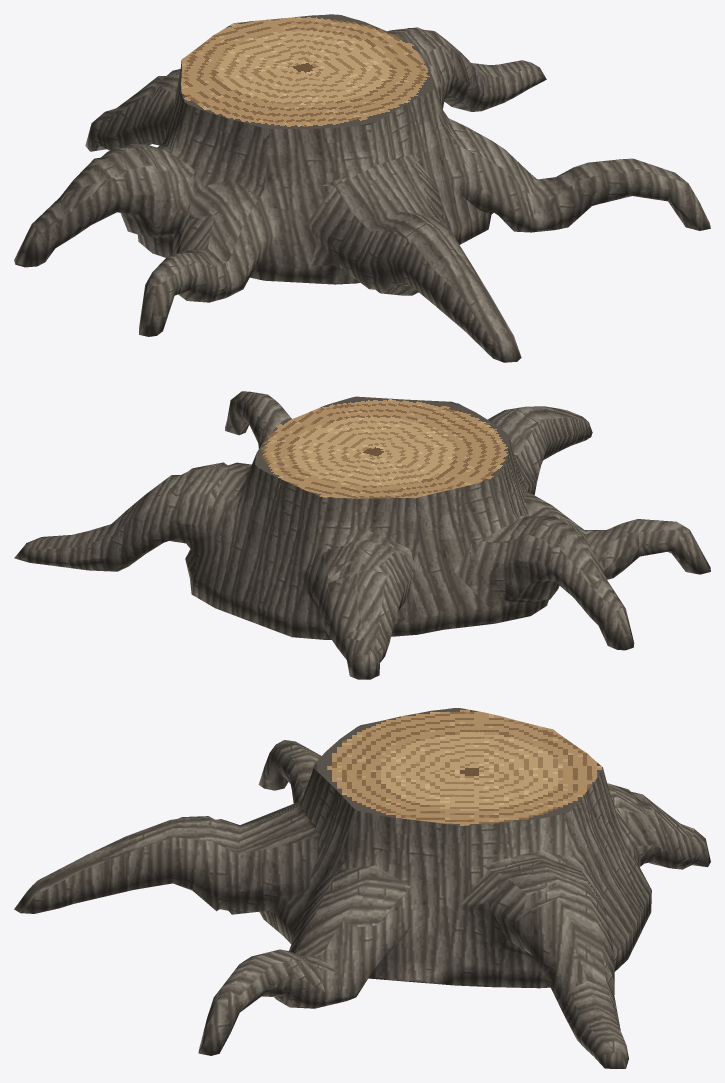
File: environment_elm3_stump_v59.fbx
3 renders of one model, top to bottom at view 1: azimuth 30°, elevation 25°; view 2: azimuth 150°, elevation 25°; view 3: azimuth 270°, elevation 25°, orthographic. The views are drawn at different scales.
Visible parts, largest first — view 1: environment_elm3_stump_v59; view 2: environment_elm3_stump_v59; view 3: environment_elm3_stump_v59.
Part boxes in pixels (bbox=[...]): environment_elm3_stump_v59: bbox=[14, 14, 710, 362]; environment_elm3_stump_v59: bbox=[14, 391, 710, 679]; environment_elm3_stump_v59: bbox=[14, 708, 710, 1068].
Size of the model in its own units: 531 by 115 by 519.
2 materials, 2 textured.
